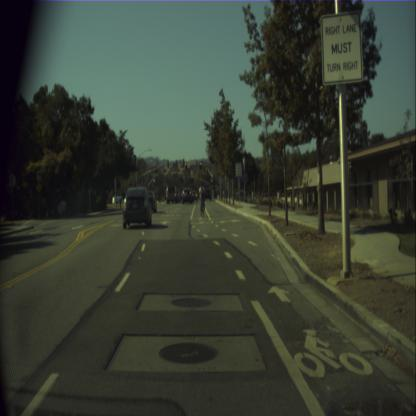Red: (200, 161, 202, 169), (184, 162, 186, 169), (180, 174, 182, 180), (185, 174, 187, 180), (210, 178, 212, 183), (191, 175, 193, 178)
Yellow: (200, 178, 202, 182)
